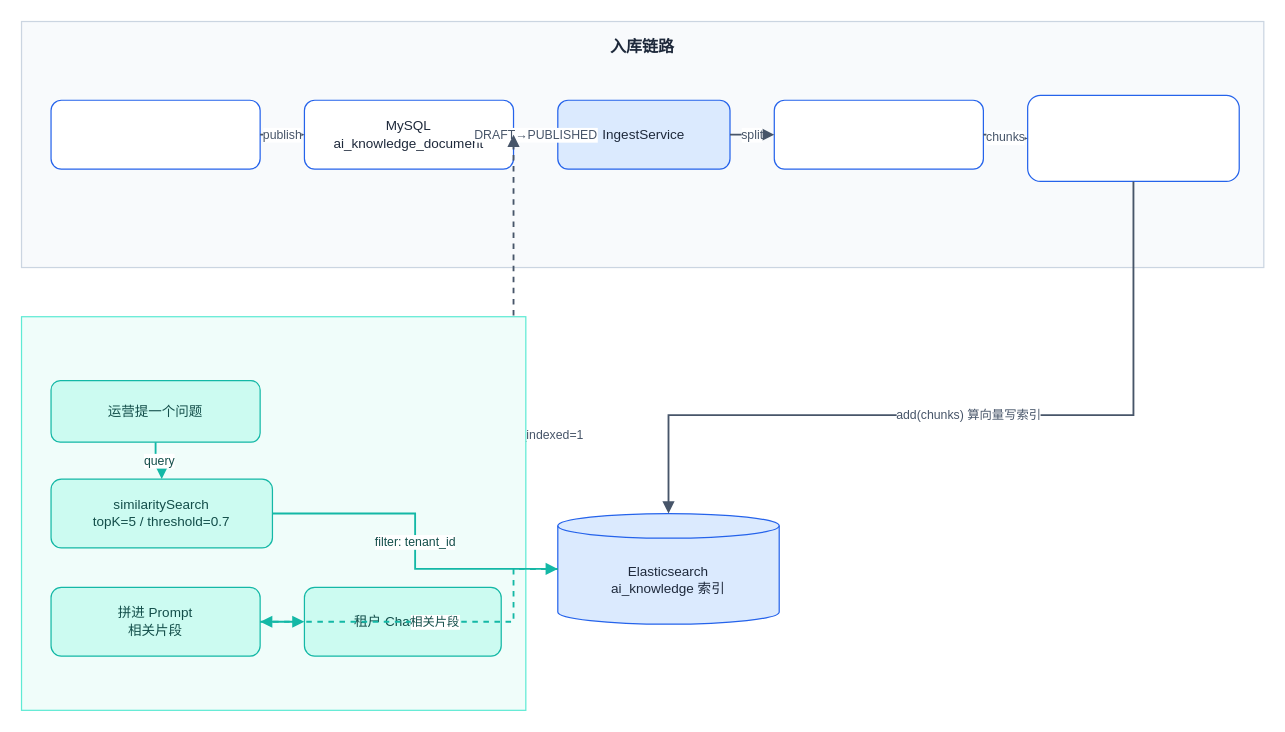
The diagram is 1285 pixels wide and 732 high, and some of its shapes have lost their labels. Here are the shapes that lost their labels. From the top down, the box of each, then its label:
(50, 99, 260, 169): 运营后台 KbManagementController
(773, 99, 983, 169): TokenTextSplitter 500 token / 50 overlap
(1026, 94, 1239, 181): 注入 metadata tenant_id/doc_id/... tags/source
(20, 315, 526, 710): 检索链路
